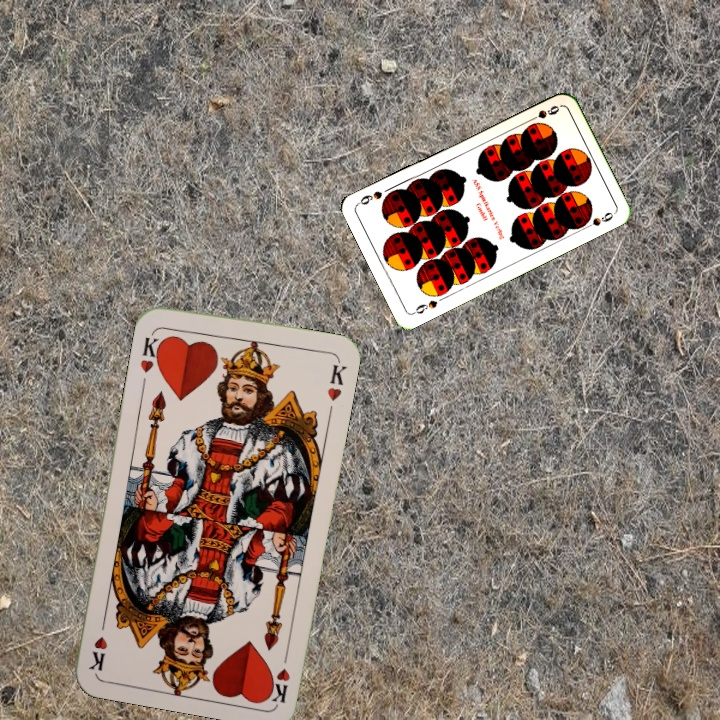HK: (264, 645, 293, 705), (136, 326, 167, 375)
S9: (524, 101, 562, 125), (409, 296, 440, 317)
